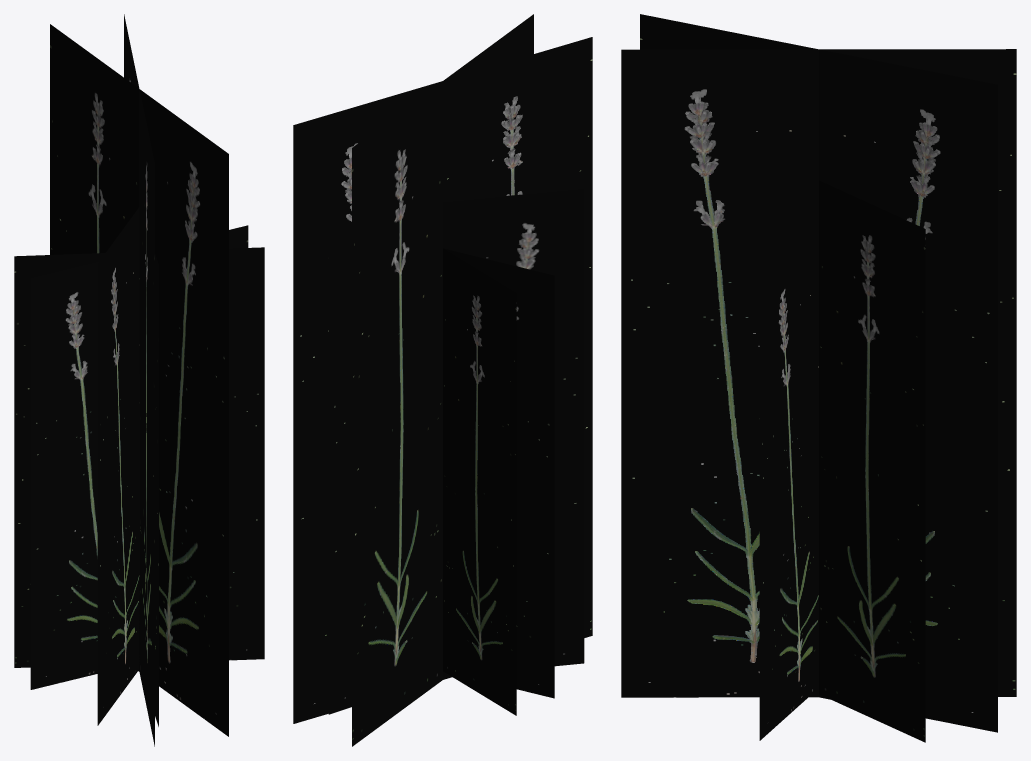
Rendered from GrassCave.fbx.
The picture shows the model from 3 angles, left to right: view 1: azimuth 30°, elevation 25°; view 2: azimuth 150°, elevation 25°; view 3: azimuth 270°, elevation 25°; orthographic projection. The views are drawn at different scales.
Visible parts, largest first — view 1: Plane1649; view 2: Plane1649; view 3: Plane1649.
Boxes of the visible parts, left/top/right/bottom form: Plane1649: left=14, top=14, right=264, bottom=746; Plane1649: left=293, top=14, right=592, bottom=746; Plane1649: left=621, top=14, right=1016, bottom=742.
Bounding box in the file's own units: 0.7126 × 1.82 × 1.01.
Materials: 1 (1 with a texture image).
